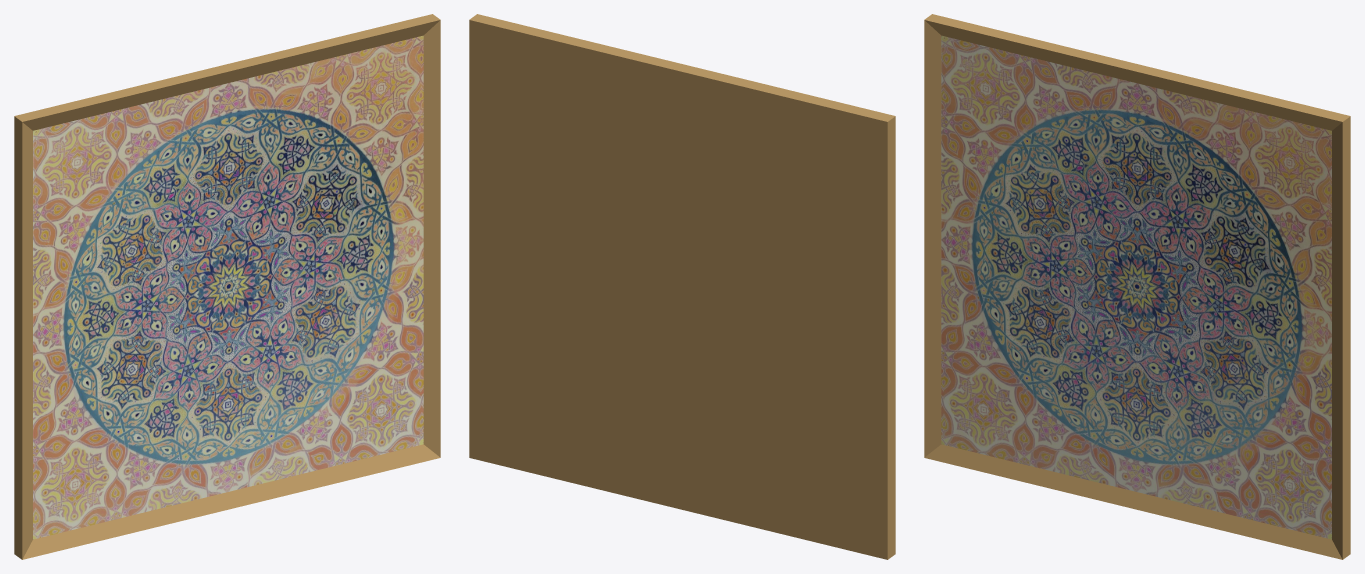
The model's file is peacock-minerva-peacock-sahara-sand-yellow-a0-natural-oak-v2.glb.
The picture shows the model from 3 angles, left to right: view 1: azimuth 30°, elevation 25°; view 2: azimuth 150°, elevation 25°; view 3: azimuth 330°, elevation 25°; orthographic projection.
Visible parts, largest first — view 1: FramedPrint; view 2: FramedPrint; view 3: FramedPrint.
Part boxes in pixels (x1,y1,x2,y2): FramedPrint: (14,14,440,559); FramedPrint: (469,14,895,559); FramedPrint: (924,14,1350,559).
Size of the model in its own units: 0.9 by 0.9 by 0.03.
Materials: 2 (1 with a texture image).
